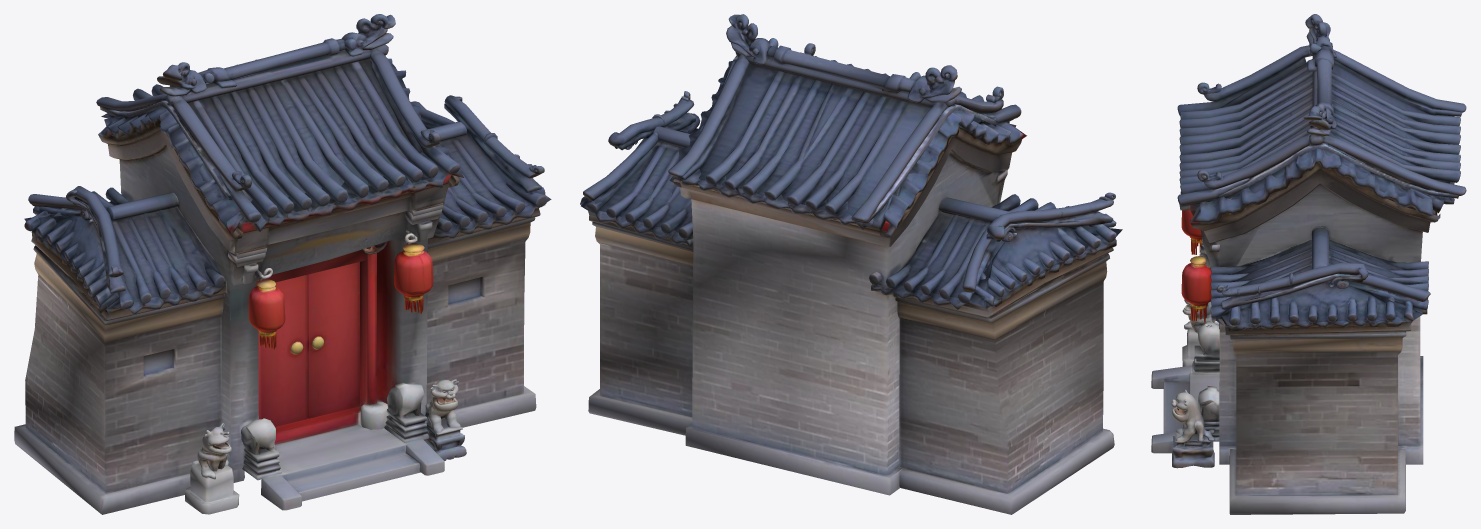
The model's file is beijing.glb.
The picture shows the model from 3 angles, left to right: view 1: azimuth 30°, elevation 25°; view 2: azimuth 150°, elevation 25°; view 3: azimuth 270°, elevation 25°; orthographic projection. The views are drawn at different scales.
Parts seen in each view (by area): view 1: tripo_node_62bbbc52-66c9-459c-a040-63a7c432dd6c; view 2: tripo_node_62bbbc52-66c9-459c-a040-63a7c432dd6c; view 3: tripo_node_62bbbc52-66c9-459c-a040-63a7c432dd6c.
Boxes of the visible parts, x1,y1,x2,y2 form: tripo_node_62bbbc52-66c9-459c-a040-63a7c432dd6c: (14, 14, 551, 514); tripo_node_62bbbc52-66c9-459c-a040-63a7c432dd6c: (580, 14, 1122, 514); tripo_node_62bbbc52-66c9-459c-a040-63a7c432dd6c: (1151, 14, 1466, 514).
Size of the model in its own units: 0.9995 by 0.8306 by 0.6606.
Materials: 1 (1 with a texture image).
